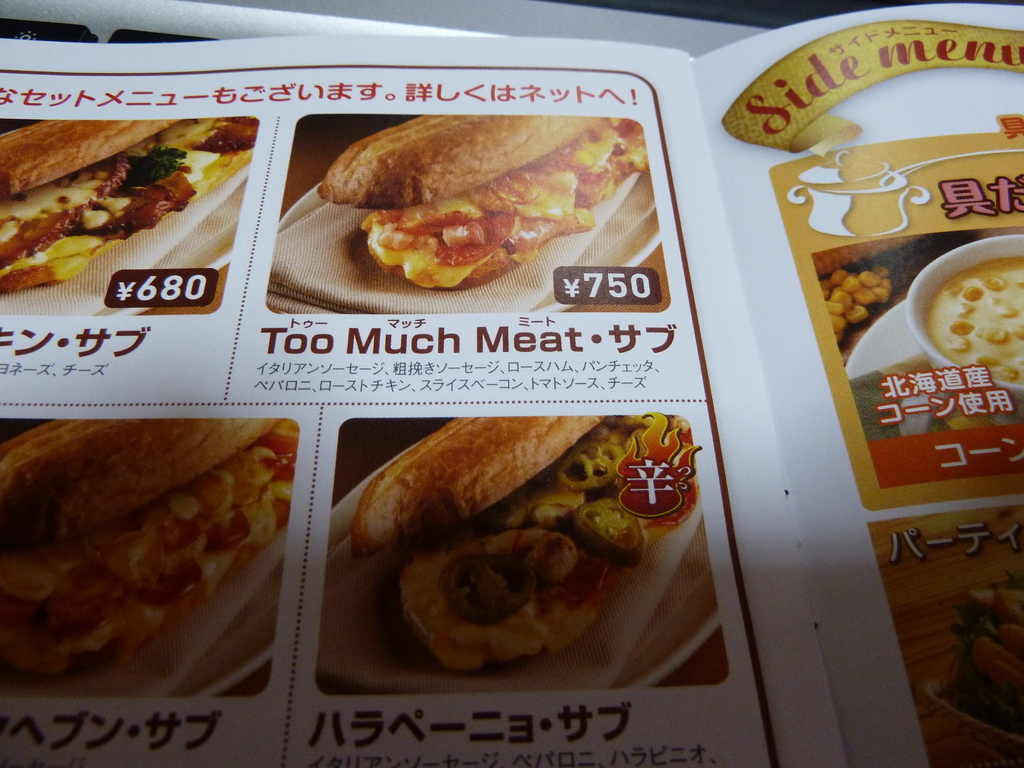sandwich: (352, 415, 705, 671), (0, 420, 294, 694), (324, 114, 648, 292), (0, 120, 257, 294)
